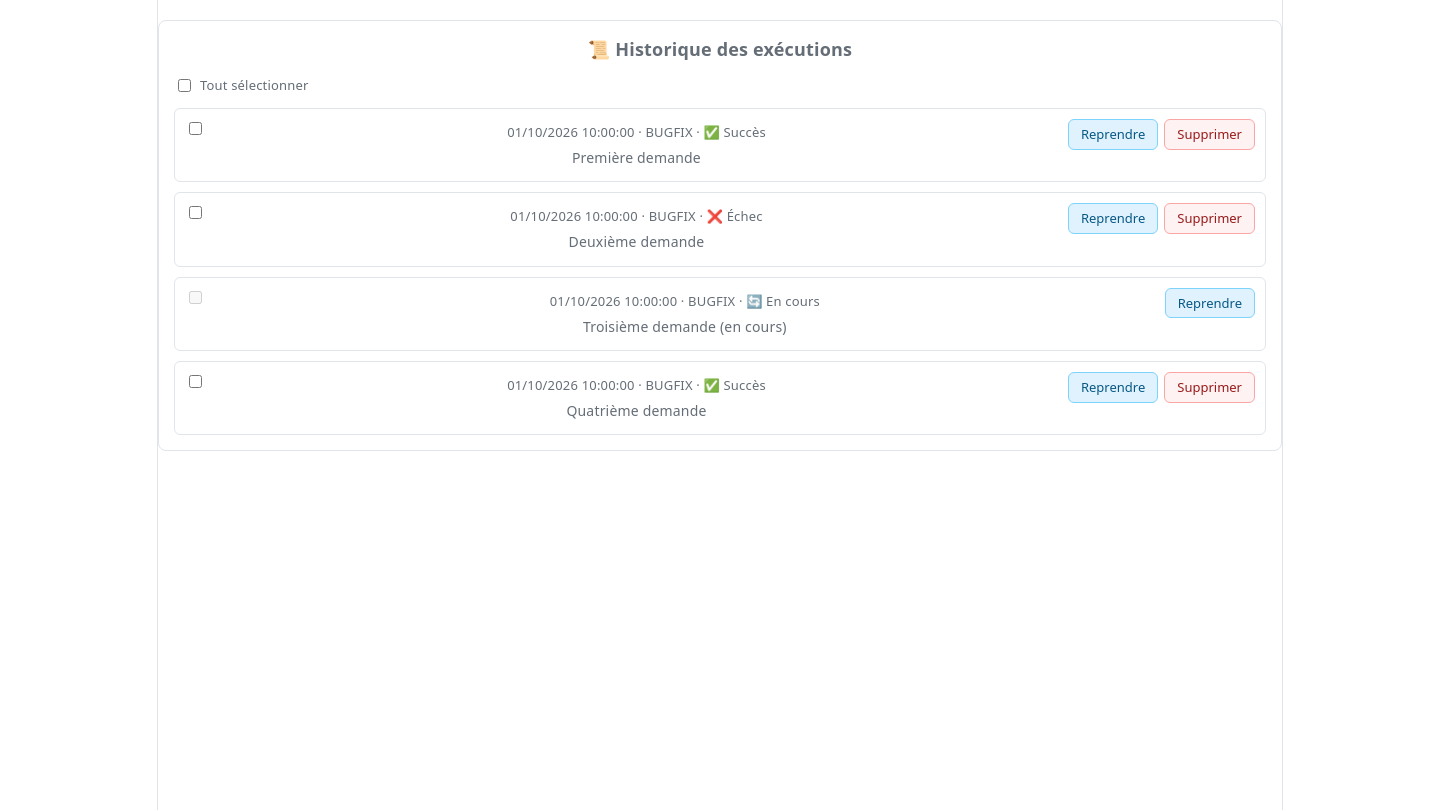
HistoryPanel — sélection multiple › supprime le lot, signale la ligne ignorée et recharge la liste
Check: the text "Première demande" is shown, box [572, 148, 701, 167]
Click the checkbox named "Première demande": point(196, 129) [189, 122, 202, 135]
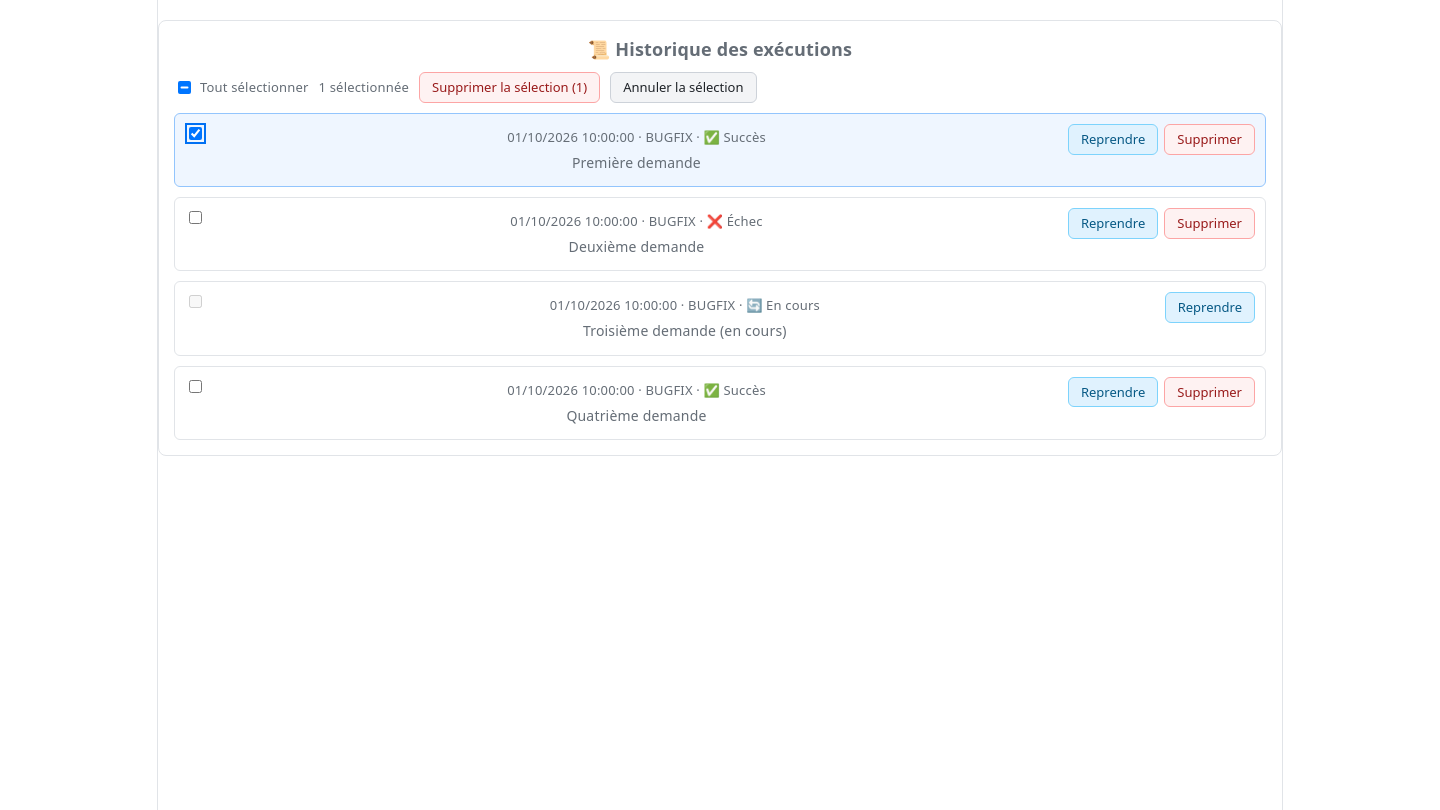
Click the checkbox named "Deuxième demande": point(196, 218) [189, 211, 202, 224]
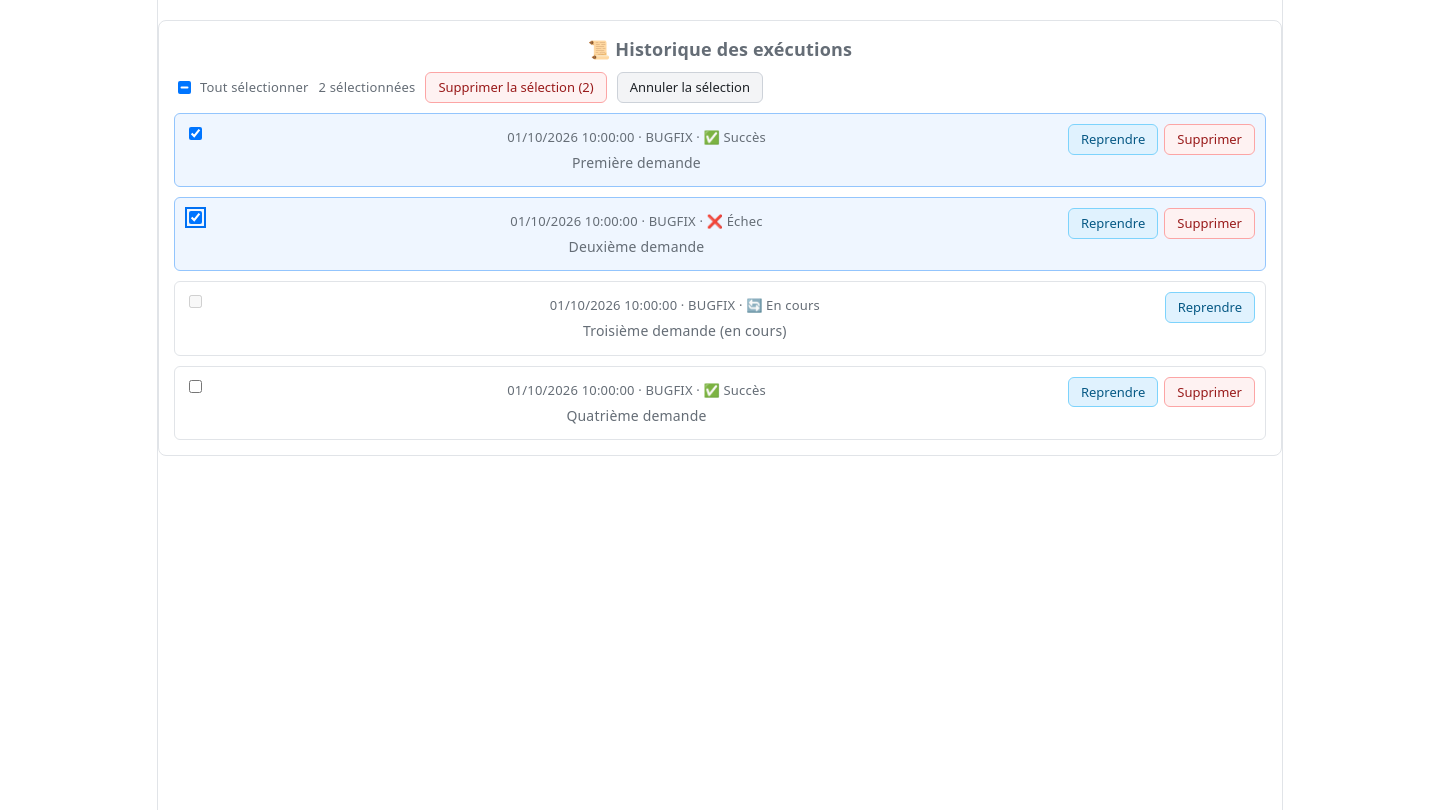
Click the button "Supprimer la sélection (2)": point(516, 88) [425, 72, 607, 103]
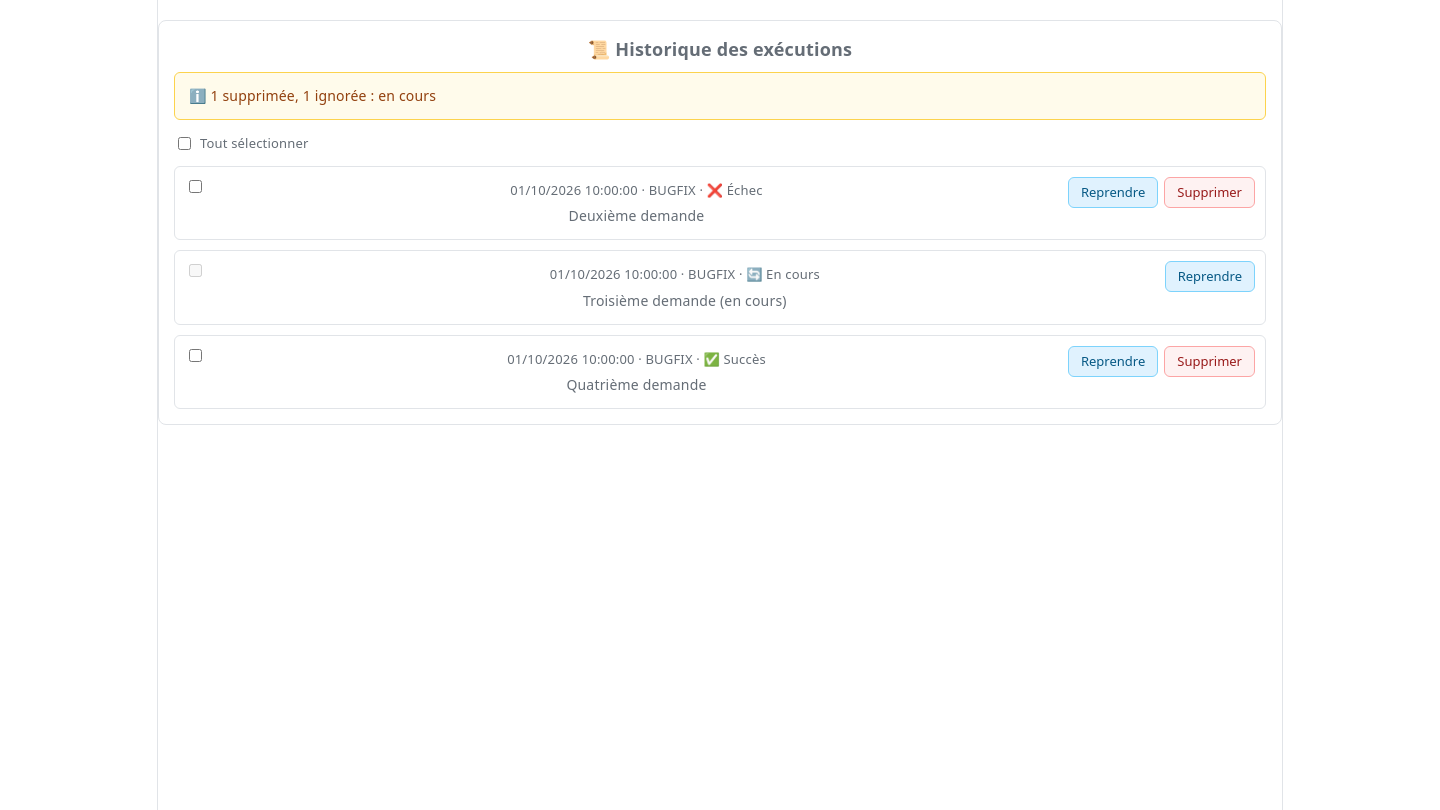
Check: the text "Deuxième demande" is shown, box [569, 206, 704, 225]
Check: the text "Première demande" is gone
Check: the text "ℹ️ 1 supprimée, 1 ignorée : en cours" is shown, box [174, 72, 1266, 120]
